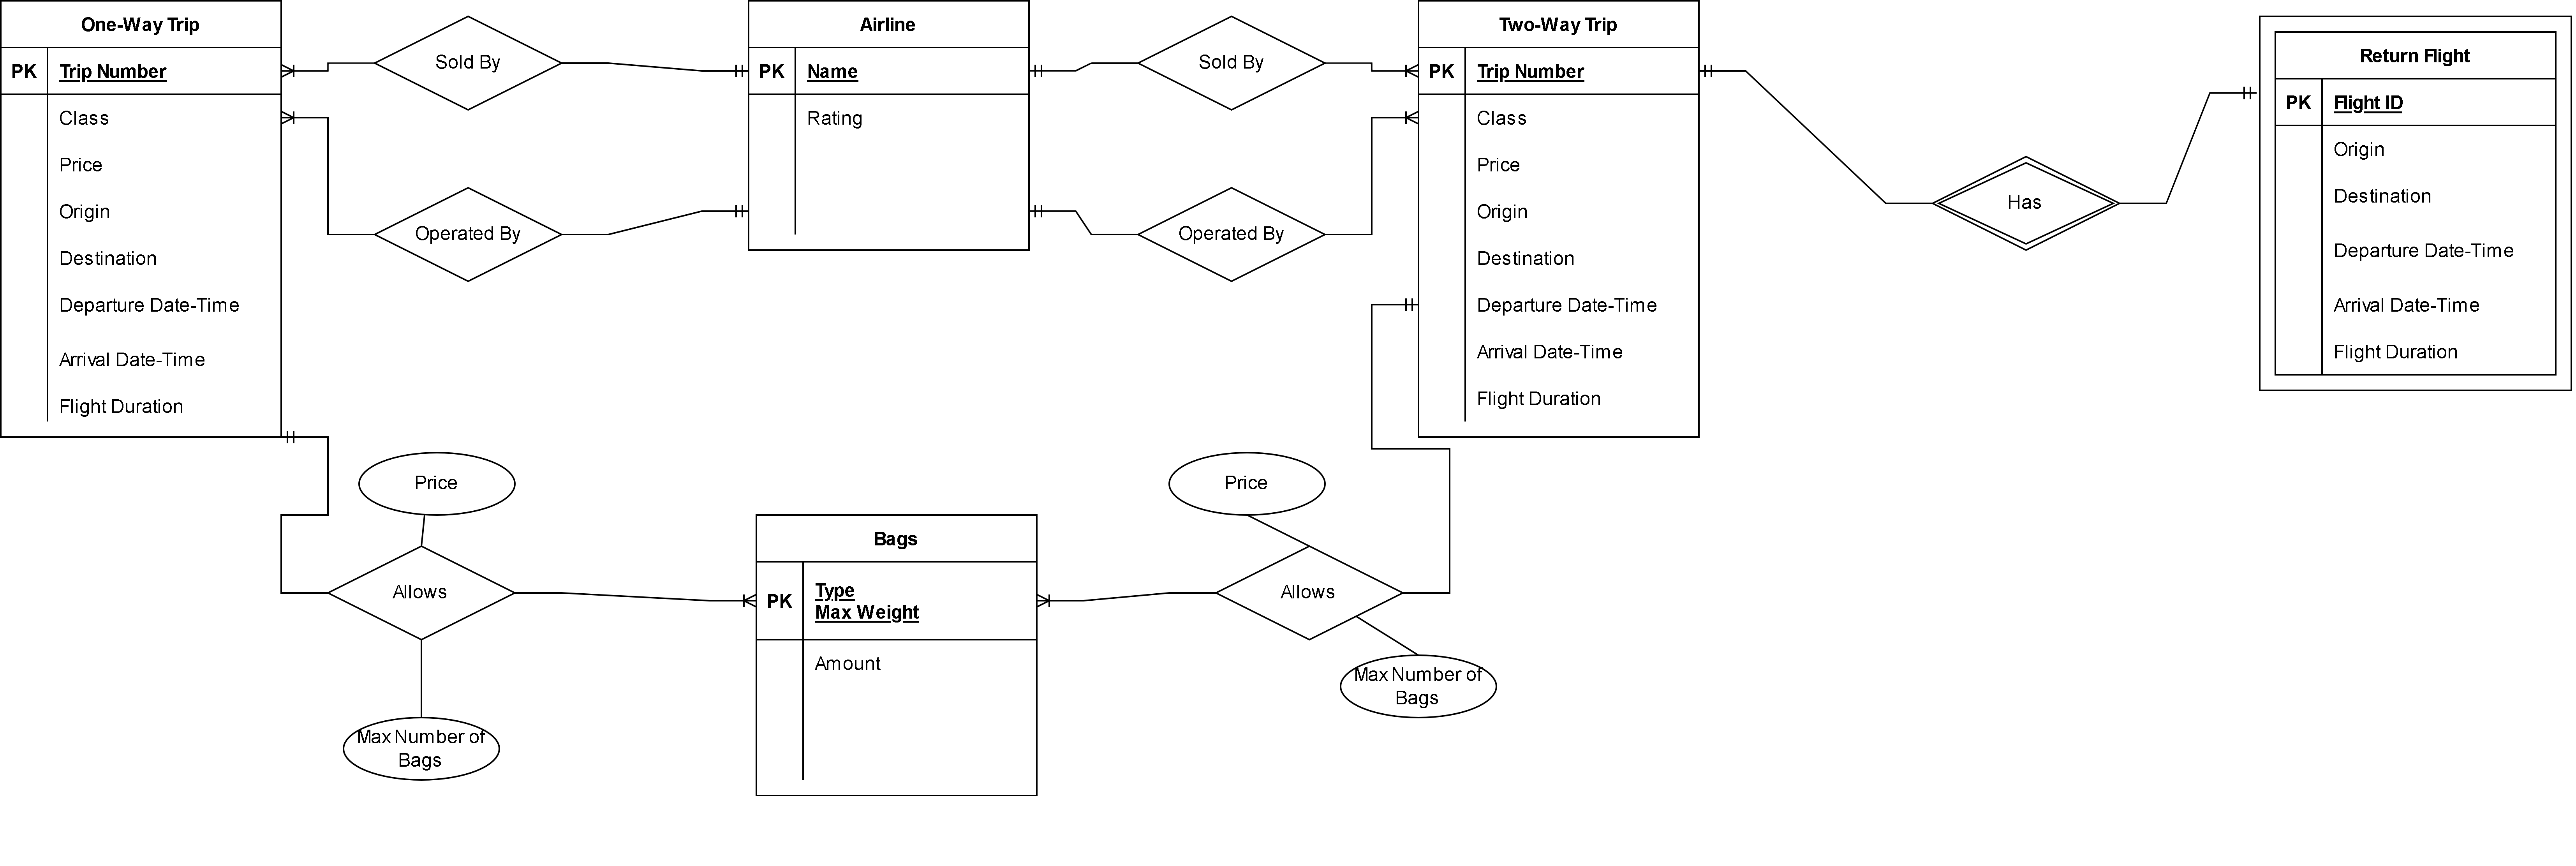entity: (1418, 0, 1702, 435), (5, 5, 279, 434), (756, 511, 1037, 795), (752, 3, 1025, 251)
ident_rel: (1934, 151, 2119, 251)
many: (708, 575, 757, 624), (279, 43, 334, 87), (1370, 48, 1423, 90), (276, 102, 330, 136), (1375, 97, 1418, 140), (1037, 587, 1078, 615)
one: (685, 187, 749, 235), (278, 419, 330, 458), (1697, 53, 1750, 87), (1025, 192, 1074, 228), (2208, 74, 2254, 112), (1365, 291, 1416, 324), (1028, 53, 1066, 92), (700, 56, 749, 85)
rel: (1134, 182, 1327, 283), (1212, 544, 1406, 639), (373, 15, 560, 112), (1137, 15, 1329, 108), (376, 189, 560, 284), (330, 546, 513, 639)
rel_attr: (1339, 651, 1497, 721), (343, 712, 499, 782), (353, 450, 516, 518), (1168, 452, 1324, 514)
weak_entity: (2254, 12, 2576, 396)
